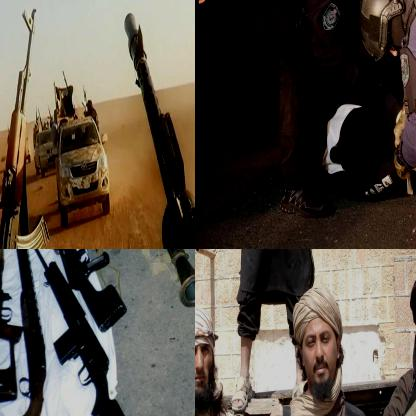knife: (274, 340, 415, 415)
rifle: (24, 249, 135, 415), (0, 5, 50, 248), (8, 249, 55, 415), (44, 249, 127, 334), (117, 249, 194, 311), (0, 249, 20, 409)
